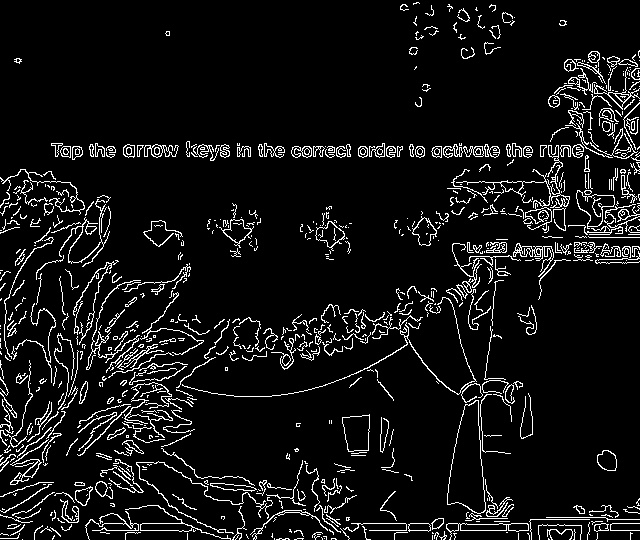down: (218, 210, 256, 251), (139, 212, 176, 251)
right: (310, 212, 353, 256)
up: (406, 213, 444, 250)
